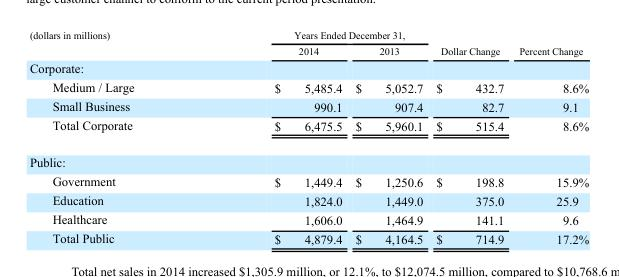table: (28, 29, 588, 246)
table column: (28, 29, 203, 246), (203, 29, 348, 246), (428, 29, 510, 246), (348, 29, 428, 246), (510, 29, 588, 246)
table column header: (28, 29, 588, 58)
table projected row header: (28, 143, 588, 171), (28, 58, 588, 76)
table row: (28, 115, 588, 143), (28, 143, 588, 171), (28, 76, 588, 96), (28, 171, 588, 191), (28, 96, 588, 115), (28, 191, 588, 210), (28, 58, 588, 76), (28, 210, 588, 228), (28, 228, 588, 246), (28, 42, 588, 58), (28, 29, 588, 42)
table spanning cell: (28, 29, 203, 58), (203, 29, 428, 42), (428, 29, 510, 58), (510, 29, 588, 58)
